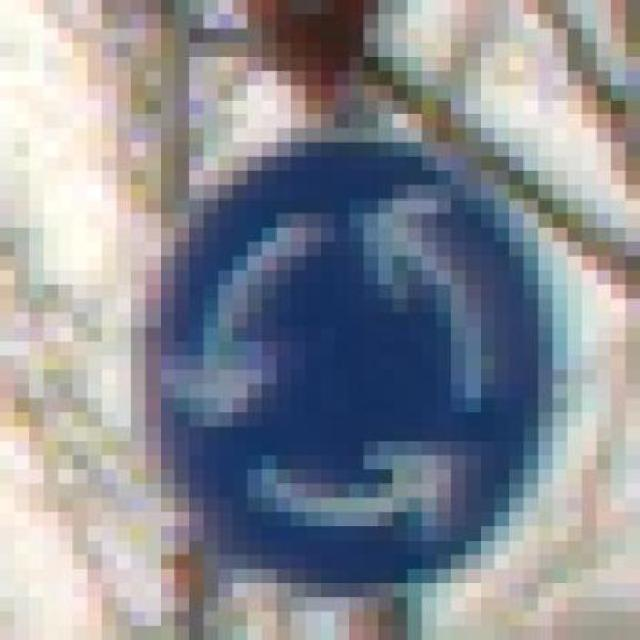Round-About: (116, 86, 582, 612)
